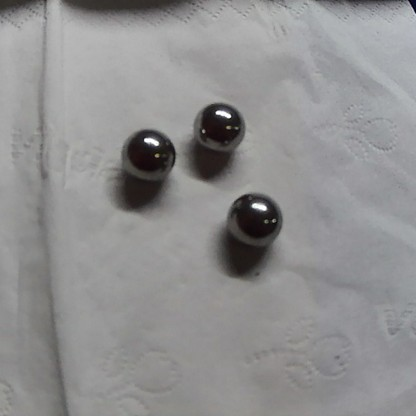ironball: (113, 127, 181, 182), (223, 187, 281, 250), (189, 96, 249, 153)
